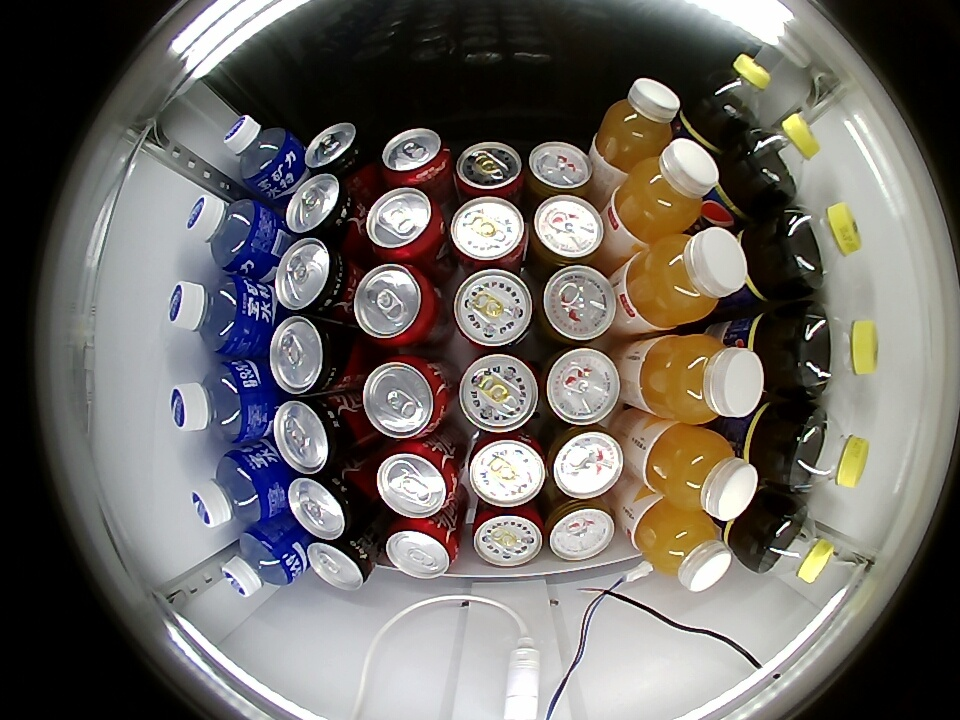baishikele: (798, 303, 879, 397), (780, 201, 863, 291), (786, 405, 870, 493), (693, 53, 772, 137), (741, 113, 820, 197), (753, 505, 836, 583)
baokuangli: (170, 360, 262, 443), (168, 276, 256, 356), (190, 449, 278, 528), (186, 193, 270, 272), (223, 115, 302, 191), (221, 525, 302, 598)
hongniu2: (537, 265, 617, 345), (541, 346, 621, 426), (547, 424, 624, 500), (530, 194, 605, 267), (545, 496, 616, 561), (526, 140, 594, 200)
kele: (362, 356, 449, 439), (353, 263, 437, 347), (376, 441, 459, 519), (365, 187, 444, 261), (384, 519, 459, 580), (380, 128, 451, 186)
lingdukele: (268, 316, 349, 394), (273, 397, 355, 473), (275, 239, 351, 314), (287, 470, 365, 540), (285, 173, 358, 242), (307, 533, 377, 591), (304, 122, 369, 178)
wangzainiunai: (458, 352, 541, 434), (452, 268, 534, 349), (466, 428, 548, 508), (448, 196, 527, 274), (472, 501, 545, 567), (453, 141, 525, 202)
weic: (624, 228, 748, 330), (612, 139, 719, 241), (640, 335, 765, 422), (645, 424, 758, 520), (632, 498, 733, 592), (595, 78, 682, 172)
